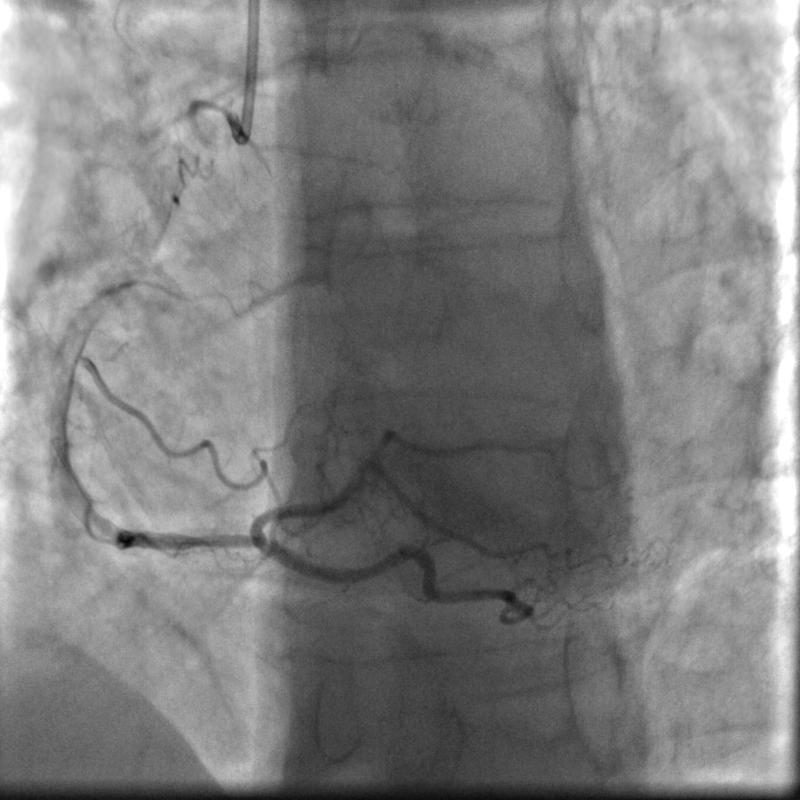Stenosis: (154, 522, 249, 555)
